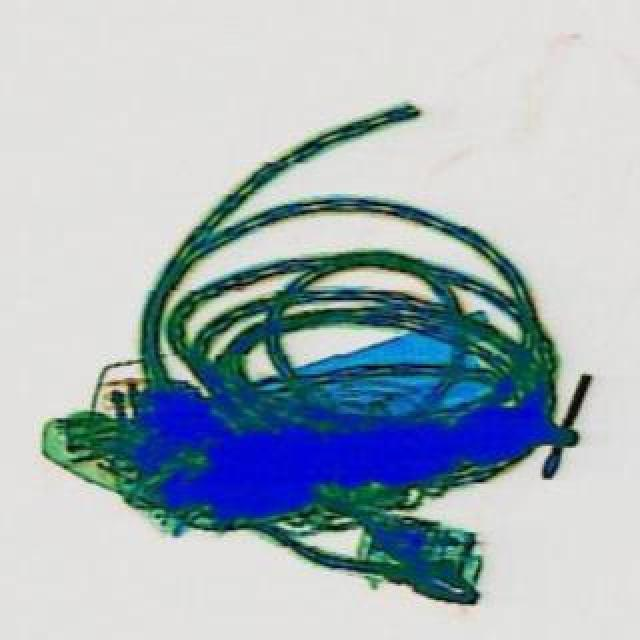wrench: (246, 466, 494, 630)
